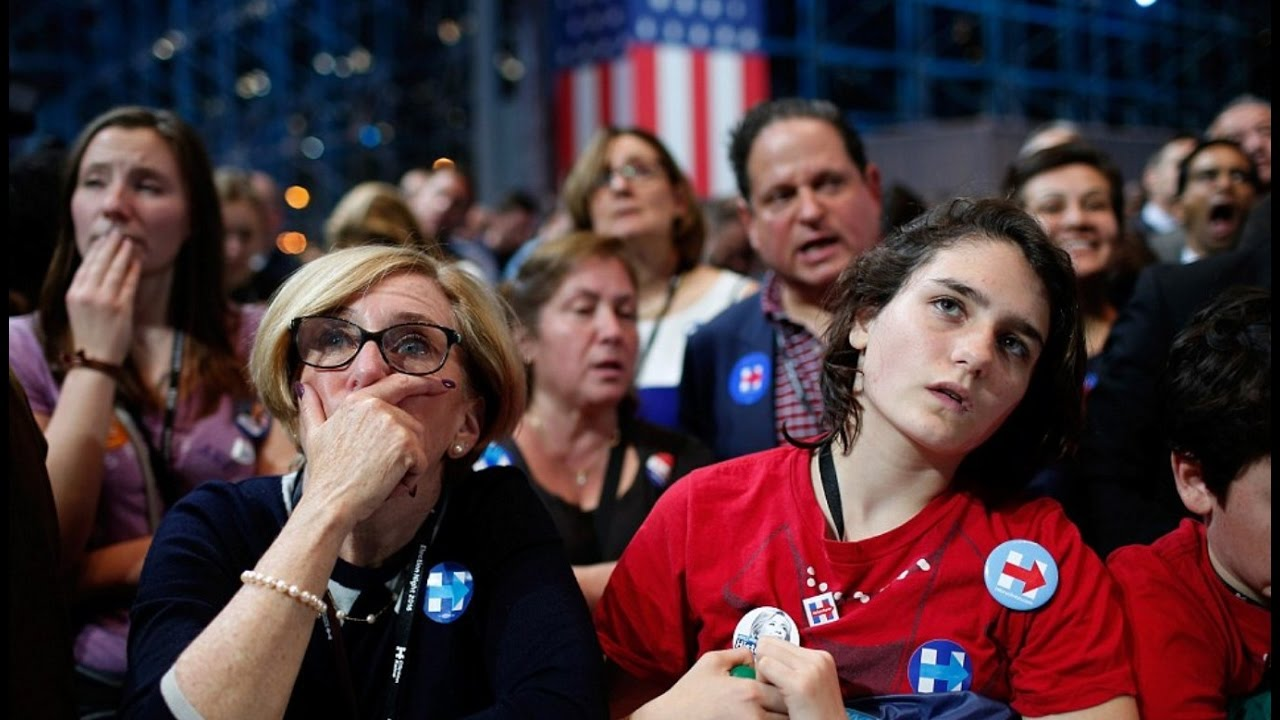sad: (279, 260, 492, 490), (864, 235, 1040, 458)
